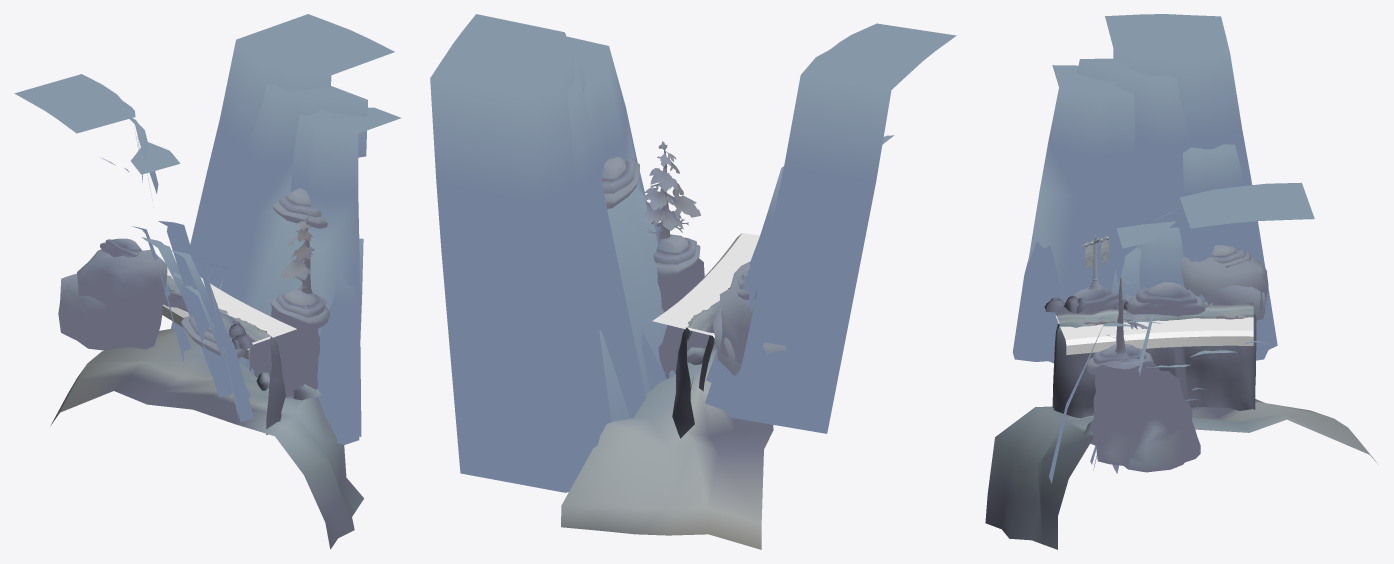
Rendered from Arctic_Narrows_Right_Curve_Left_10_A.glb.
3 renders of one model, left to right at view 1: azimuth 30°, elevation 25°; view 2: azimuth 150°, elevation 25°; view 3: azimuth 270°, elevation 25°, orthographic. The views are drawn at different scales.
Visible parts, largest first — view 1: Arctic_Narrows_Right_Curve_Left_10_A, inv_fill; view 2: Arctic_Narrows_Right_Curve_Left_10_A, inv_fill; view 3: Arctic_Narrows_Right_Curve_Left_10_A, inv_fill.
Boxes of the visible parts, x1,y1,x2,y2 form: Arctic_Narrows_Right_Curve_Left_10_A: (14,14,400,549); inv_fill: (162,267,296,359); Arctic_Narrows_Right_Curve_Left_10_A: (430,14,956,549); inv_fill: (652,233,759,338); Arctic_Narrows_Right_Curve_Left_10_A: (985,14,1378,549); inv_fill: (1056,315,1253,354).
Size of what is drawn, in the model's own units: 23.18 by 25.47 by 21.91.
